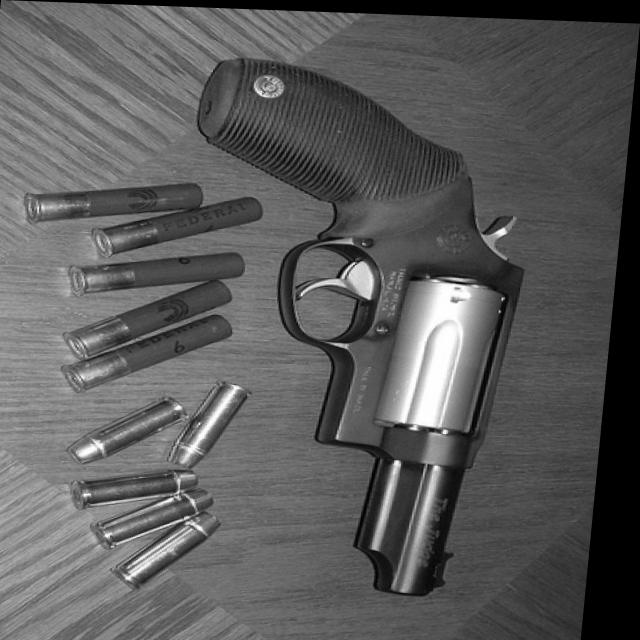handgun: (164, 51, 549, 596)
